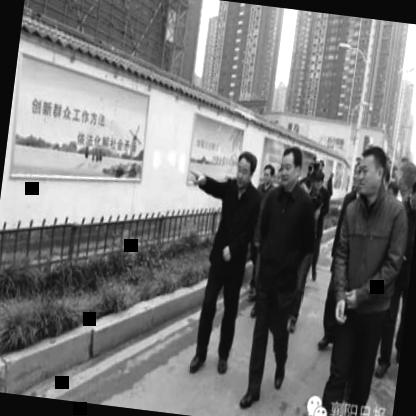head: (350, 140, 392, 206), (274, 142, 305, 192), (232, 148, 260, 187), (406, 176, 416, 219), (260, 163, 274, 191)
